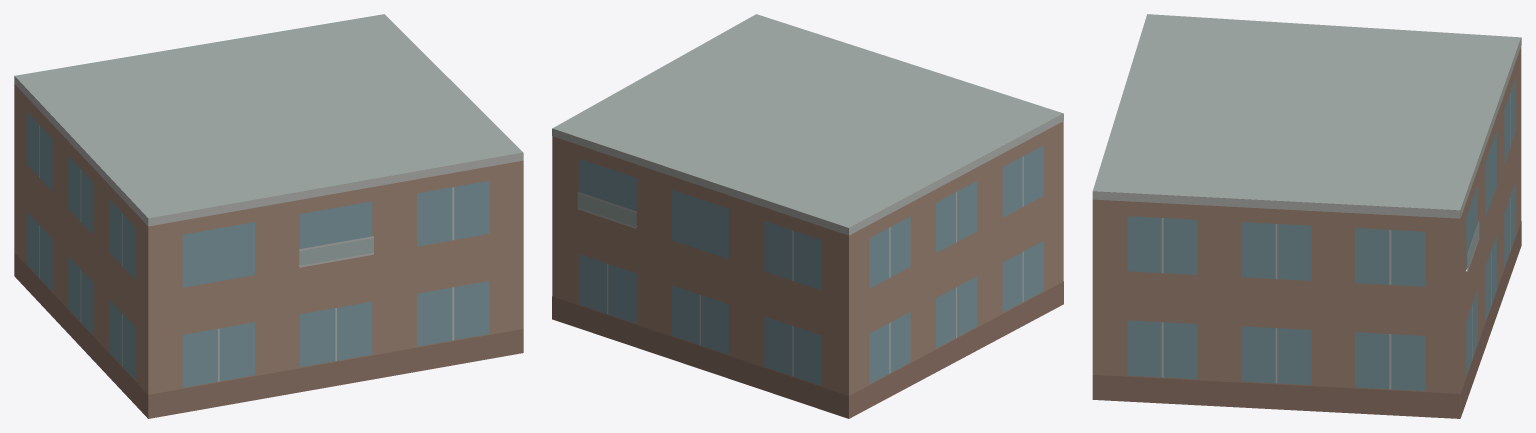
File: survey-upis-32982011.glb
3 renders of one model, left to right at view 1: azimuth 30°, elevation 25°; view 2: azimuth 150°, elevation 25°; view 3: azimuth 270°, elevation 25°, orthographic. The views are drawn at different scales.
Parts seen in each view (by area): view 1: survey-upis-32982011.tmp; view 2: survey-upis-32982011.tmp; view 3: survey-upis-32982011.tmp.
Boxes of the visible parts, x1,y1,x2,y2 form: survey-upis-32982011.tmp: (14, 14, 523, 418); survey-upis-32982011.tmp: (552, 14, 1063, 418); survey-upis-32982011.tmp: (1092, 14, 1521, 418).
Bounding box in the file's own units: 12.33 × 6.1 × 11.38.
